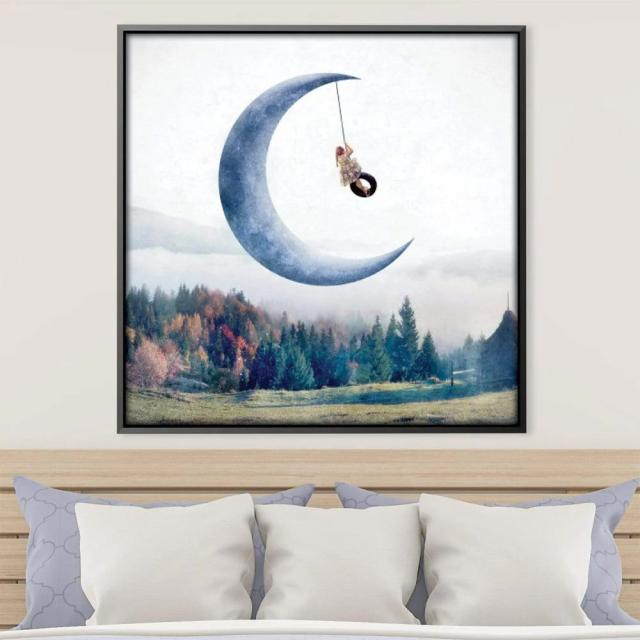painting: (117, 24, 528, 434)
